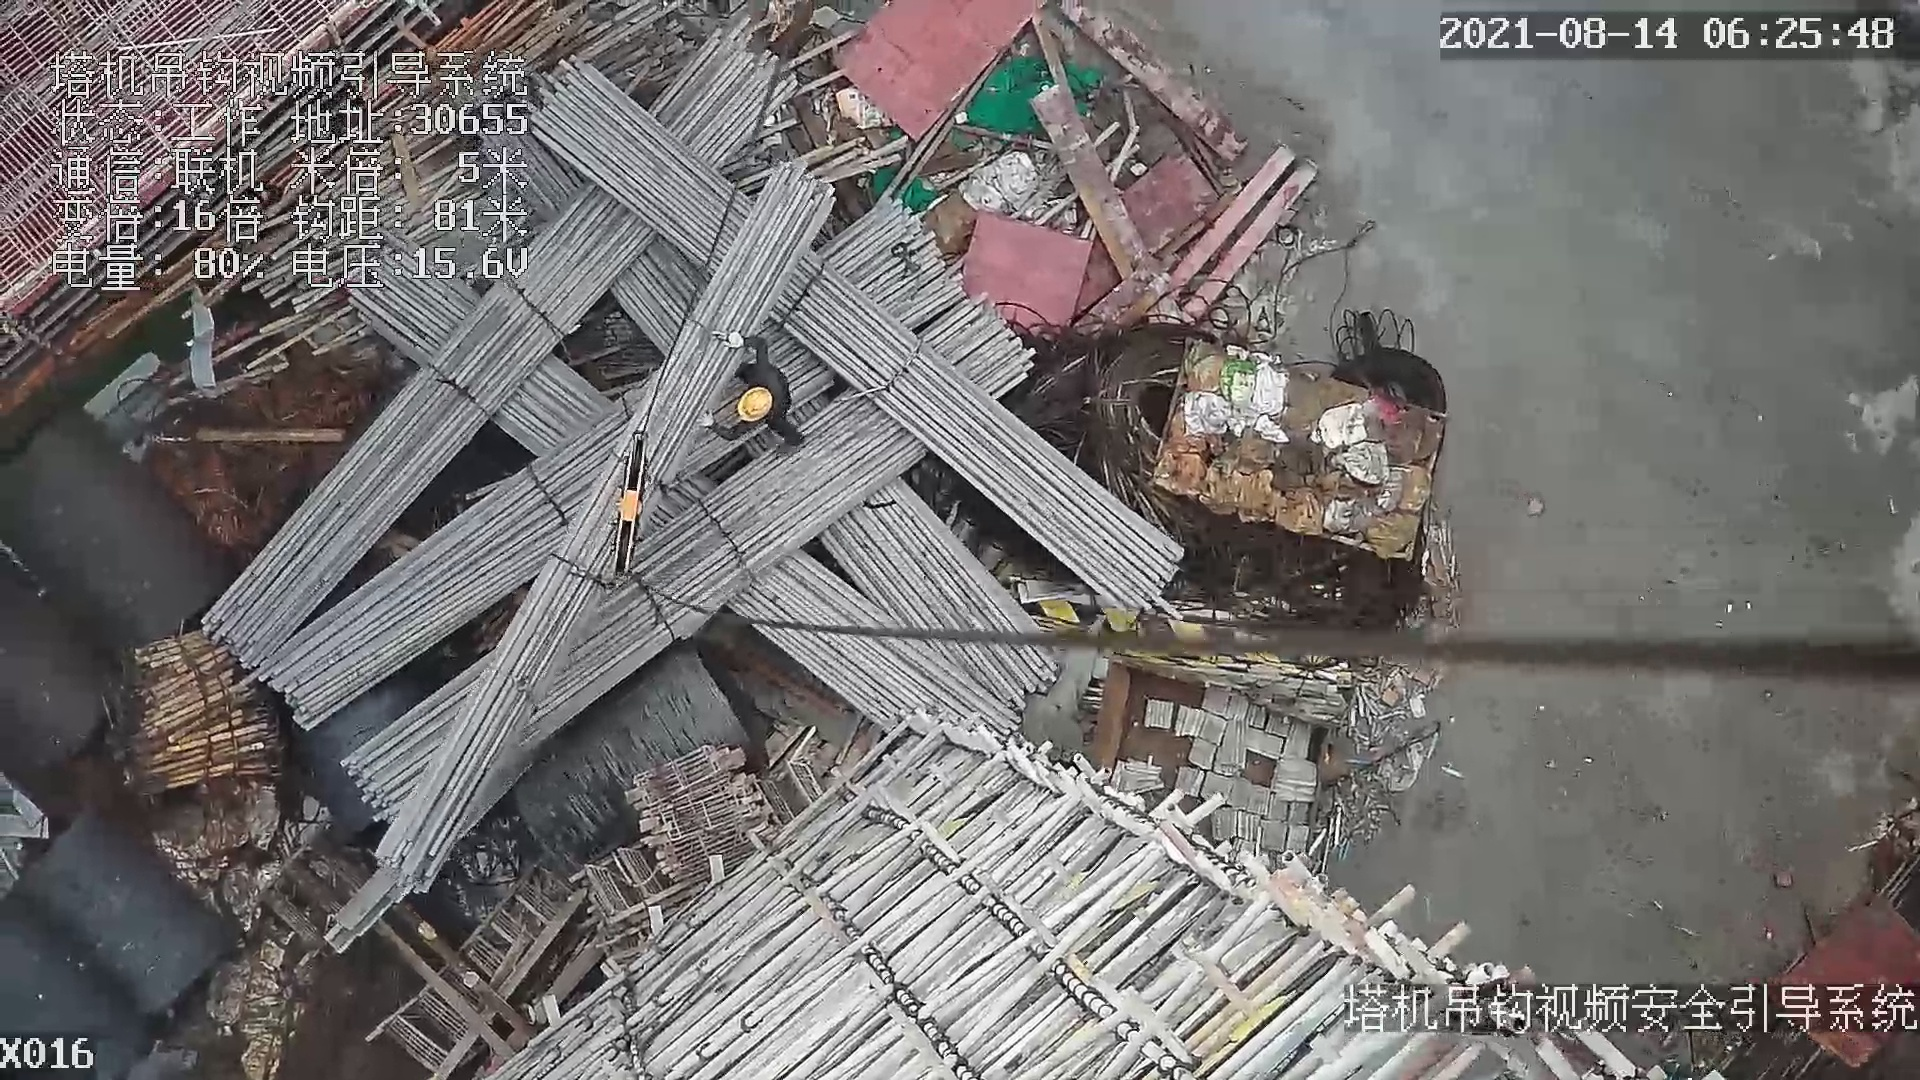helmet: (732, 385, 773, 426)
hook: (606, 427, 658, 582)
person: (709, 333, 815, 458)
